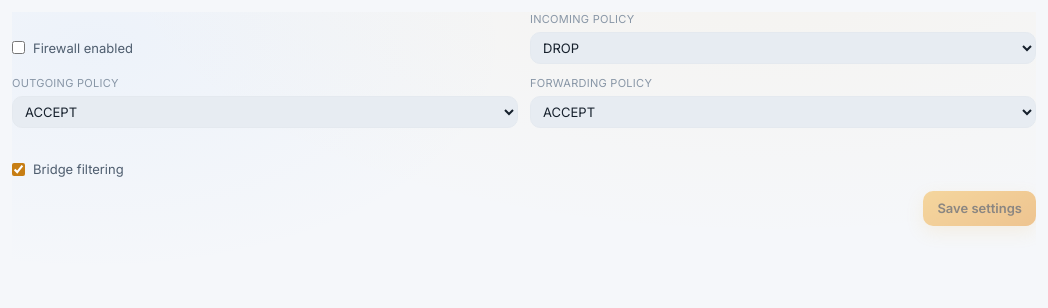
it: FirewallOptionsPanel › warns that nothing will get through when there are no allow rules
Click the checkbox labelled "Firewall enabled": x=18, y=48 [12,42,25,54]
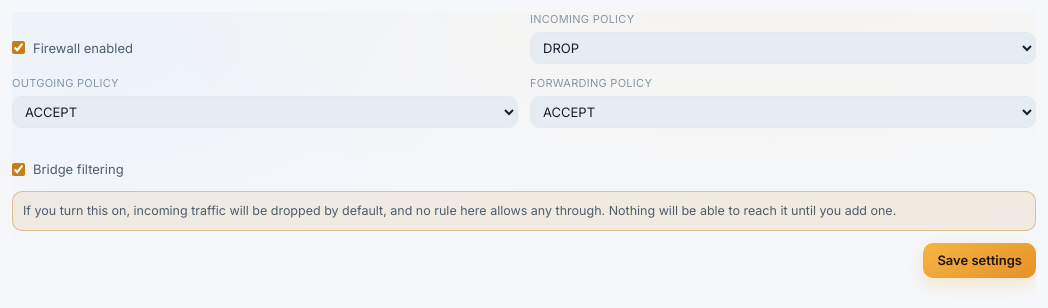
Result: the text "no rule here allows any through" is shown at [23,203,896,218]
